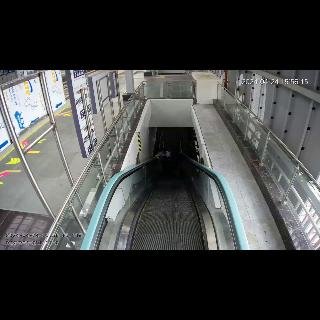normal: (160, 146, 170, 178)
